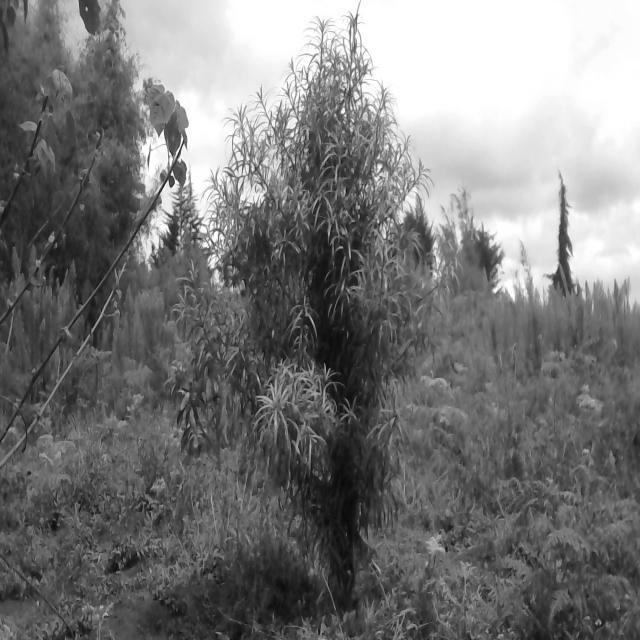Juniperus procesera: (152, 160, 206, 269), (458, 207, 507, 302), (550, 160, 580, 308), (393, 188, 439, 278)
Podocarpus falcatus: (187, 18, 445, 617)
